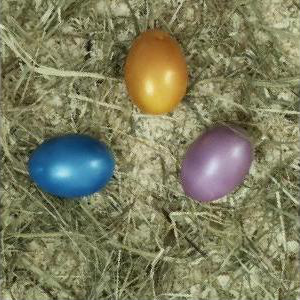egg: (181, 121, 254, 202), (28, 134, 114, 198), (125, 29, 188, 116)
